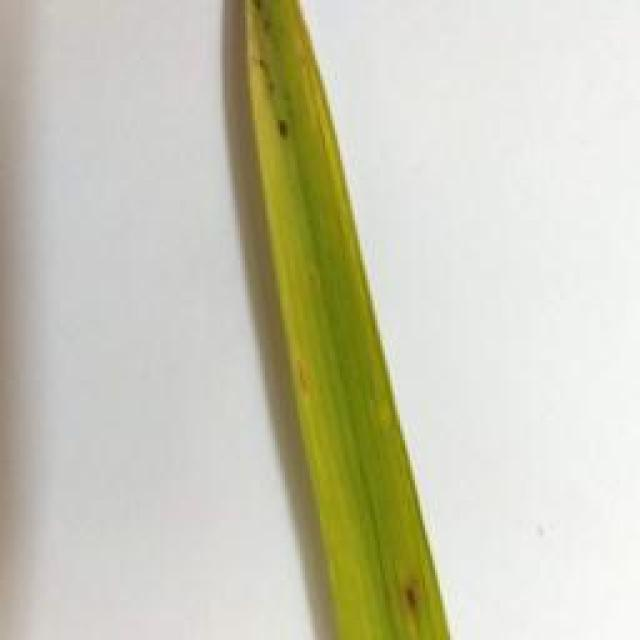Brown_Spot: (245, 0, 277, 40), (399, 576, 424, 618), (256, 54, 278, 99), (271, 117, 295, 151)
